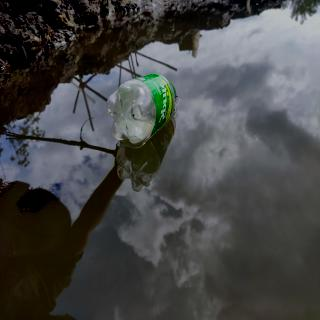bottle: (104, 70, 178, 147)
